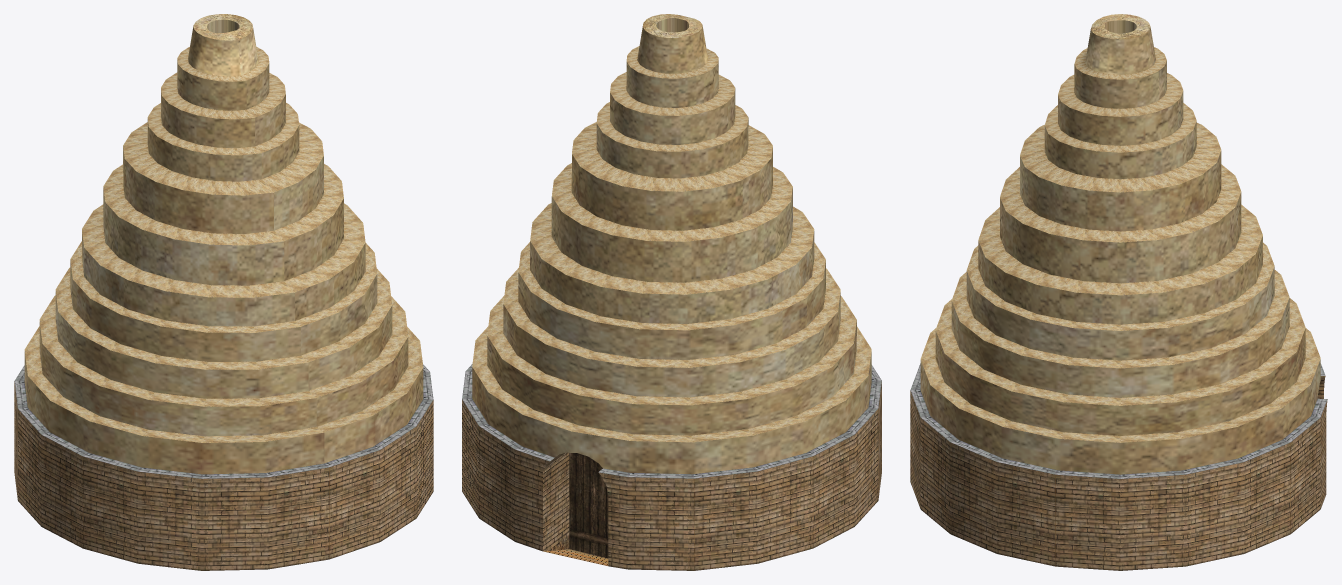
The model's file is pers_ice_house.glb.
3 renders of one model, left to right at view 1: azimuth 30°, elevation 25°; view 2: azimuth 150°, elevation 25°; view 3: azimuth 270°, elevation 25°, orthographic.
Size of the model in its own units: 15.28 by 18.96 by 15.16.
Materials: 1 (1 with a texture image).
